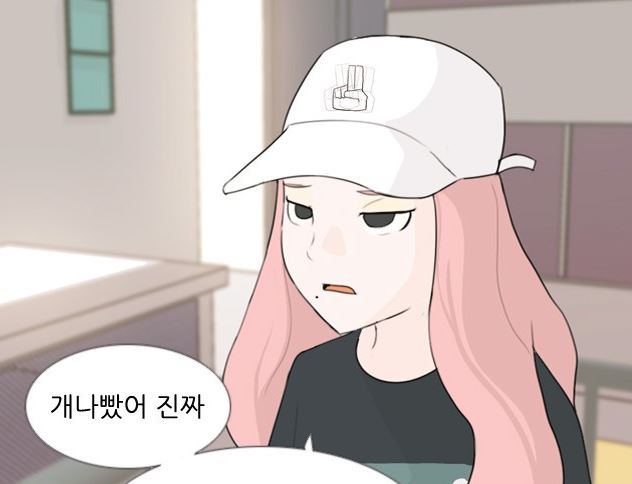hat: (219, 32, 509, 199)
